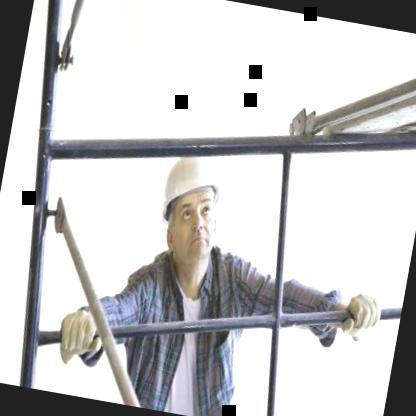helmet: (142, 138, 235, 284)
